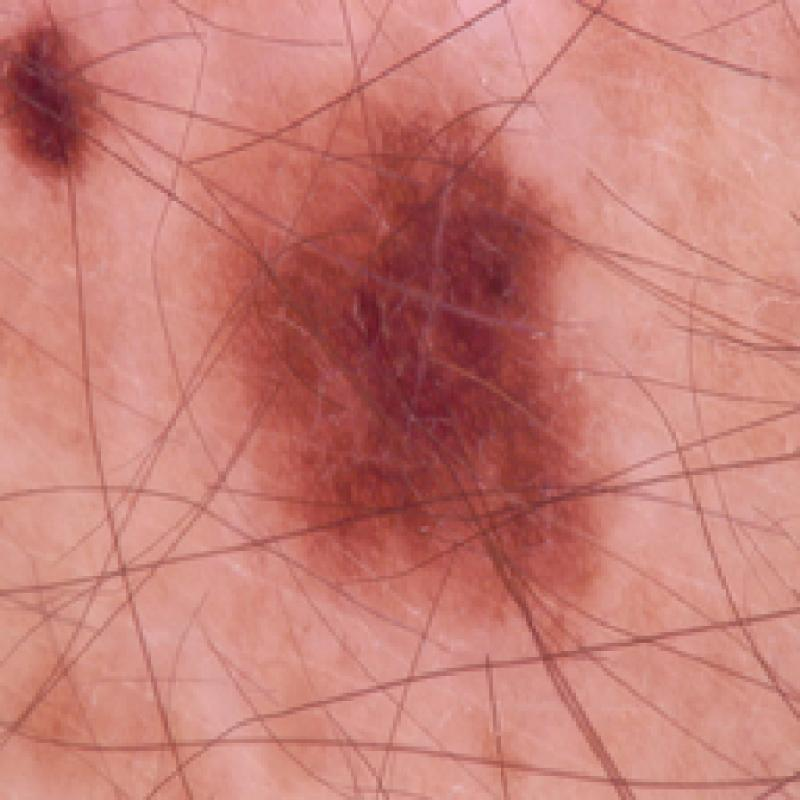benign: (195, 81, 619, 617), (0, 9, 117, 216)
